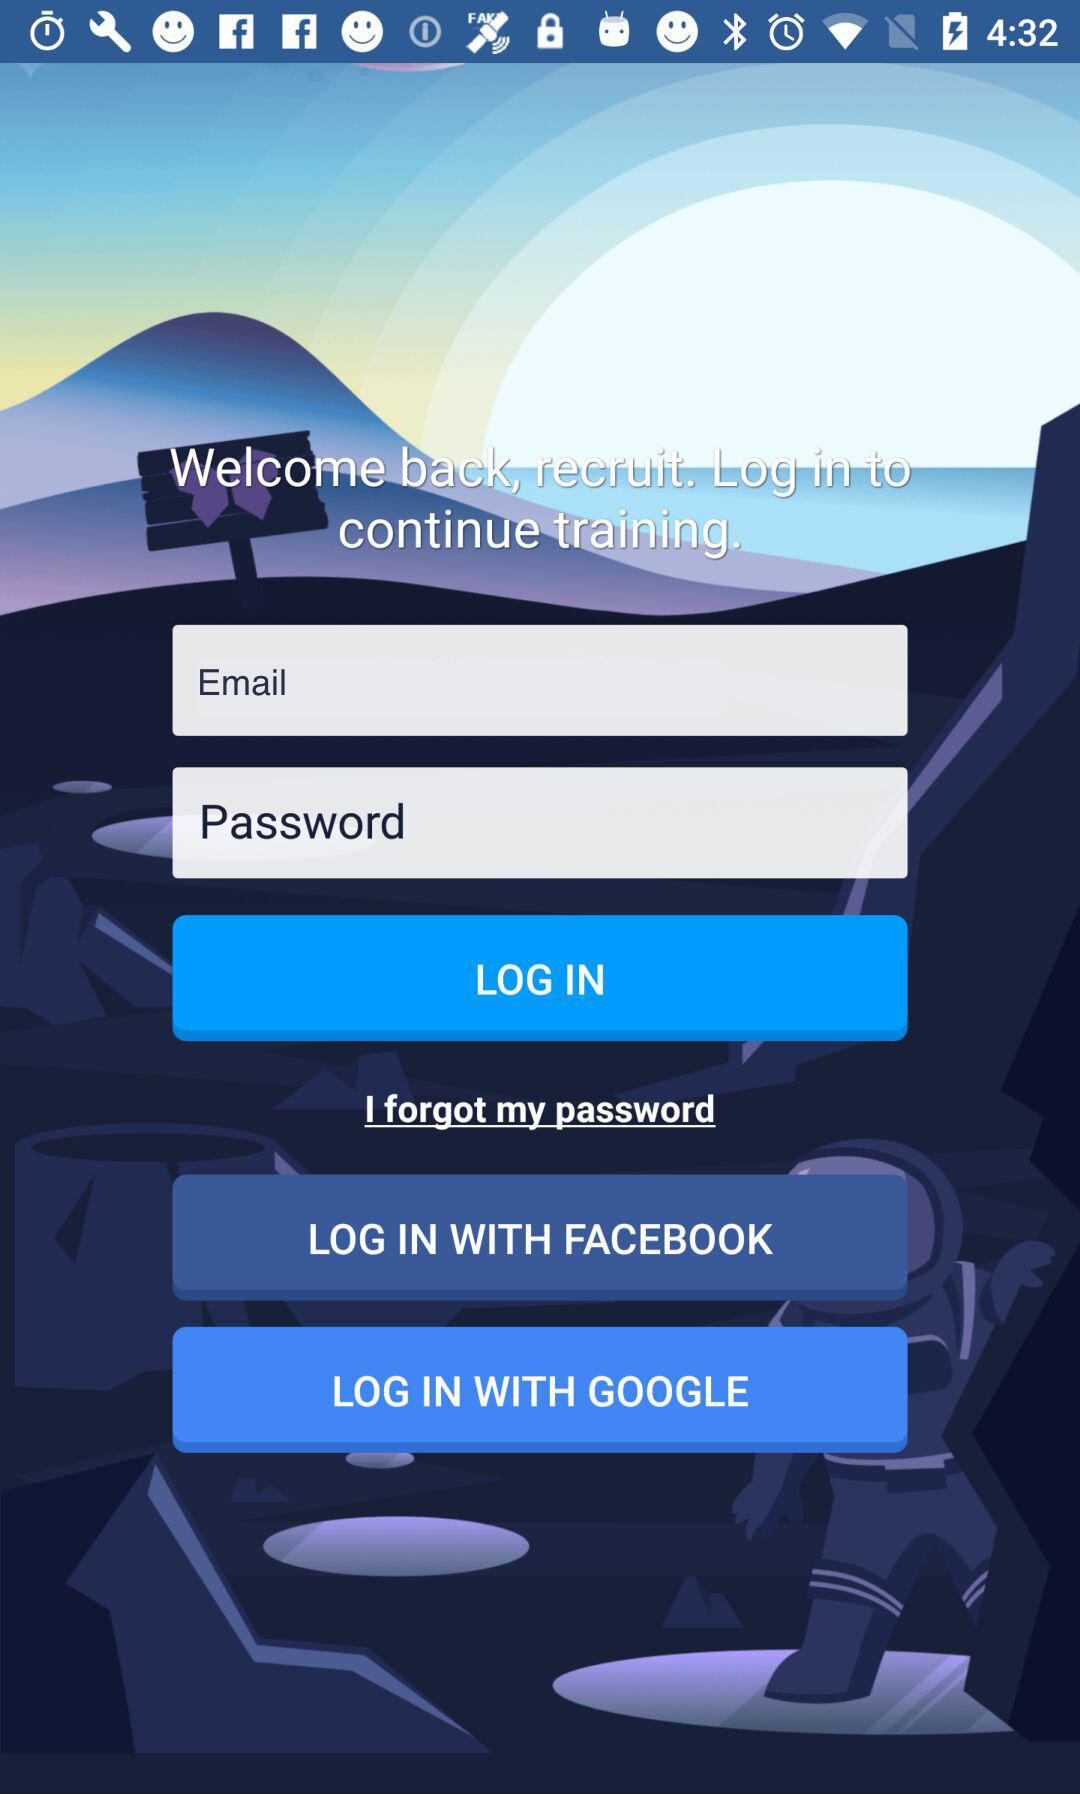BackgroundImage: (1, 64, 1080, 1794)
EditText: (172, 768, 910, 880), (172, 625, 910, 737)
Text: (169, 445, 912, 563), (364, 1093, 717, 1132), (202, 802, 405, 841), (200, 668, 287, 697)
TextButton: (172, 914, 910, 1043), (172, 1175, 910, 1303), (172, 1326, 908, 1454)
UpperTaskBar: (1, 1, 1080, 64)
